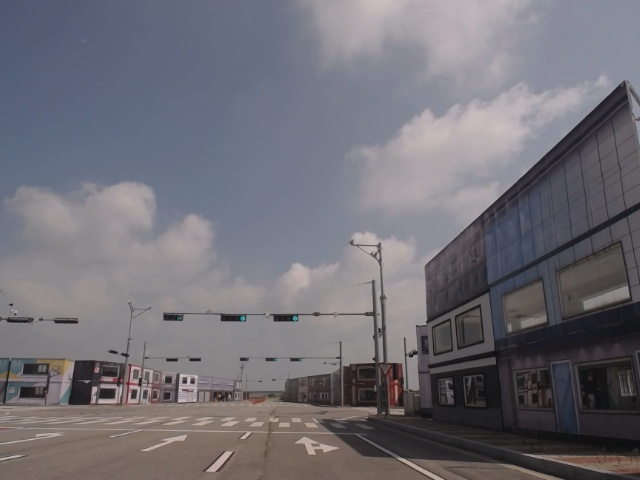straight_green_4: (273, 313, 300, 323), (221, 313, 248, 322)
